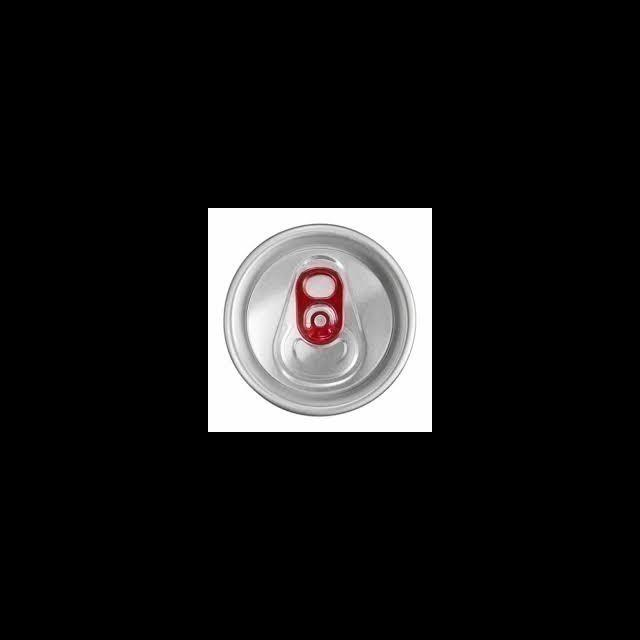metal: (221, 220, 421, 418)
